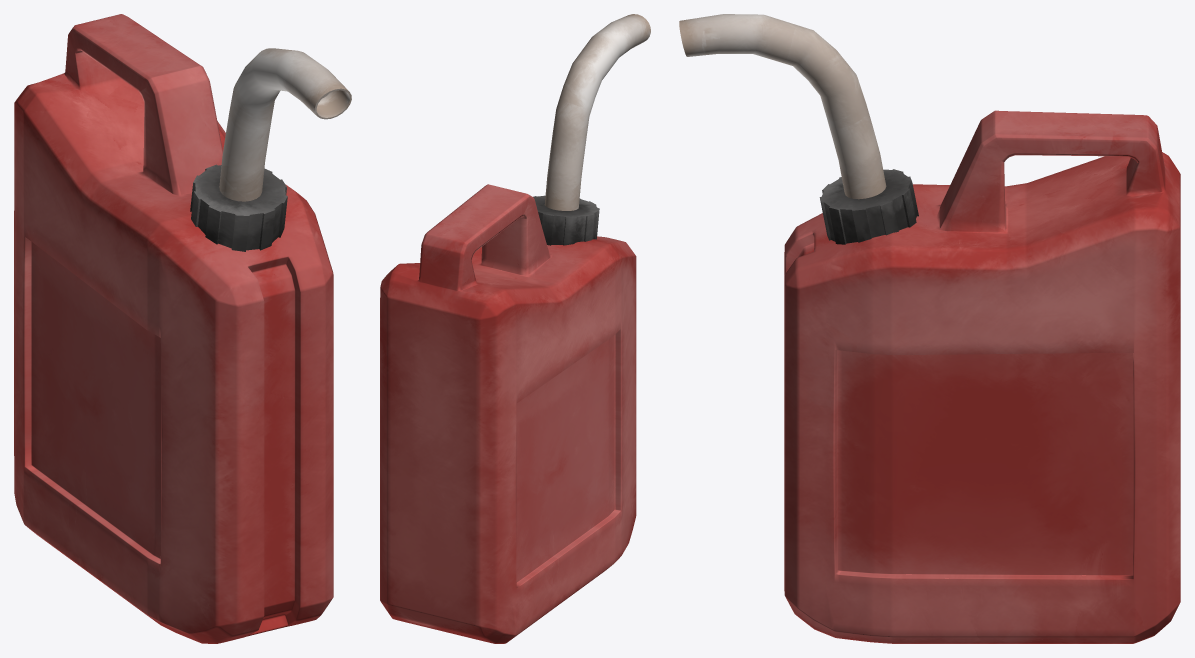
File: GasolineContainerModel.fbx
3 views of the same model, side by side, from view 1: azimuth 30°, elevation 25°; view 2: azimuth 150°, elevation 25°; view 3: azimuth 270°, elevation 25° (orthographic). The views are drawn at different scales.
Parts seen in each view (by area): view 1: pCylinder3; view 2: pCylinder3; view 3: pCylinder3.
Part boxes in pixels (left/top/right/bottom): pCylinder3: left=14, top=14, right=351, bottom=643; pCylinder3: left=380, top=14, right=650, bottom=643; pCylinder3: left=679, top=14, right=1180, bottom=643.
Size of the model in its own units: 8.6 by 31.08 by 23.69.
Materials: 3 (3 with a texture image).
